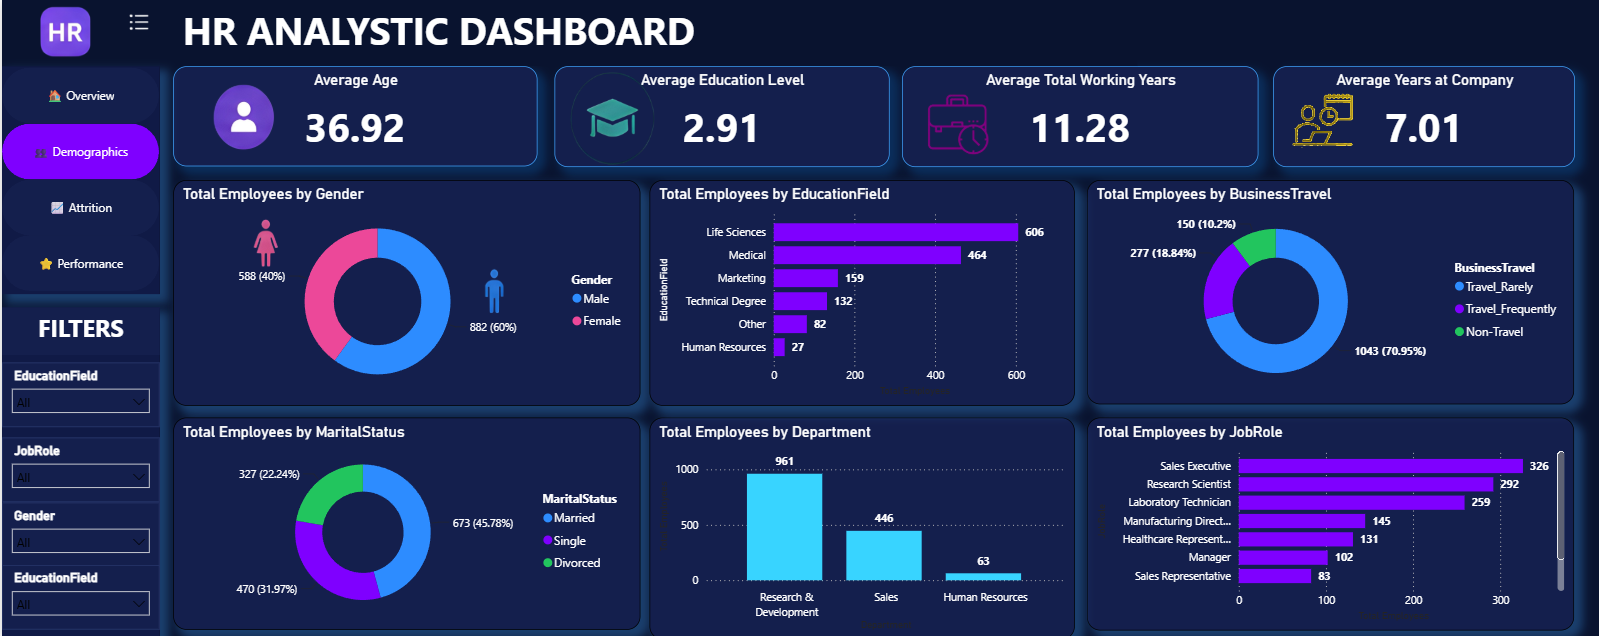

What the dashboard file says about the page in this screenshot:
{"tool":"powerbi","page":{"name":"👥 Demographics","canvas":[1800,720],"ordinal":1},"visuals":[{"type":"cardVisual","title":"Average Age","fields":{"Data":["HR_Cleaned.Average Age"]},"box":[193,75,410,113],"z":0},{"type":"shape","box":[0,74.1,177.6,256.9],"z":1000},{"type":"shape","box":[0,346.6,177.6,374.1],"z":2000},{"type":"cardVisual","title":"Average Education Level","fields":{"Data":["HR_Cleaned.Average Education Level"]},"box":[622.7,74.7,377.3,113.3],"z":3000},{"type":"cardVisual","title":"Average Total Working Years","fields":{"Data":["HR_Cleaned.Average Total Working Years"]},"box":[1014.7,74.7,401.3,113.3],"z":4000},{"type":"cardVisual","title":"Average Years at Company","fields":{"Data":["HR_Cleaned.Average Years at Company"]},"box":[1432,74.7,340,113.3],"z":5000},{"type":"textbox","box":[198.3,0,1081,74.1],"z":6000},{"type":"donutChart","fields":{"Category":["HR_Cleaned.Gender"],"Y":["HR_Cleaned.Total Employees"]},"box":[193,203,526,254],"z":7000},{"type":"clusteredBarChart","fields":{"Y":["HR_Cleaned.Total Employees"],"Category":["HR_Cleaned.JobRole"]},"box":[1223,471,549,240],"z":8000},{"type":"donutChart","fields":{"Y":["HR_Cleaned.Total Employees"],"Category":["HR_Cleaned.BusinessTravel"]},"box":[1223,203,549,253],"z":9000},{"type":"donutChart","fields":{"Y":["HR_Cleaned.Total Employees"],"Category":["HR_Cleaned.MaritalStatus"]},"box":[193,471,526,239],"z":10000},{"type":"clusteredColumnChart","fields":{"Y":["HR_Cleaned.Total Employees"],"Category":["HR_Cleaned.Department"]},"box":[730,471,479,250],"z":11000},{"type":"clusteredBarChart","fields":{"Category":["HR_Cleaned.EducationField"],"Y":["HR_Cleaned.Total Employees"]},"box":[730,203,479,254],"z":12000},{"type":"slicer","fields":{"Values":["HR_Cleaned.EducationField"]},"box":[0,408.1,177.4,72.6],"z":13000},{"type":"slicer","fields":{"Values":["HR_Cleaned.JobRole"]},"box":[0,493.5,177.4,72.6],"z":14000},{"type":"slicer","fields":{"Values":["HR_Cleaned.Gender"]},"box":[0,566.1,177.4,72.6],"z":15000},{"type":"slicer","fields":{"Values":["HR_Cleaned.EducationField"]},"box":[0,637.1,177.4,72.6],"z":16000},{"type":"textbox","box":[0,346.8,177.4,53.2],"z":17000},{"type":"image","box":[177,75.7,193.2,127],"z":18000},{"type":"image","box":[591.9,47.3,193.2,167.6],"z":19000},{"type":"image","box":[0,0,193.2,74.3],"z":20000},{"type":"image","box":[500,285.1,112.2,74.3],"z":21000},{"type":"image","box":[202.7,232.4,193.2,74.3],"z":22000},{"type":"image","box":[1014.8,103.7,124.1,72.2],"z":23000},{"type":"image","box":[1416.7,94.4,142.6,81.5],"z":24000},{"type":"pageNavigator","box":[0,76.2,177.5,252.5],"z":25000}]}

Visuals, with their boxes on the page's 1800x720 design canvas (x1, y1, x2, y2). These are canvas units, not pixel positions in the 1599x636 screenshot, which may show the page scaled, cropped or inside an application window:
"Average Age" cardVisual: x1=193, y1=75, x2=603, y2=188
shape: x1=0, y1=74, x2=178, y2=331
shape: x1=0, y1=347, x2=178, y2=721
"Average Education Level" cardVisual: x1=623, y1=75, x2=1000, y2=188
"Average Total Working Years" cardVisual: x1=1015, y1=75, x2=1416, y2=188
"Average Years at Company" cardVisual: x1=1432, y1=75, x2=1772, y2=188
textbox: x1=198, y1=0, x2=1279, y2=74
donutChart - HR_Cleaned.Gender x HR_Cleaned.Total Employees: x1=193, y1=203, x2=719, y2=457
clusteredBarChart - HR_Cleaned.Total Employees x HR_Cleaned.JobRole: x1=1223, y1=471, x2=1772, y2=711
donutChart - HR_Cleaned.Total Employees x HR_Cleaned.BusinessTravel: x1=1223, y1=203, x2=1772, y2=456
donutChart - HR_Cleaned.Total Employees x HR_Cleaned.MaritalStatus: x1=193, y1=471, x2=719, y2=710
clusteredColumnChart - HR_Cleaned.Total Employees x HR_Cleaned.Department: x1=730, y1=471, x2=1209, y2=721
clusteredBarChart - HR_Cleaned.EducationField x HR_Cleaned.Total Employees: x1=730, y1=203, x2=1209, y2=457
slicer - HR_Cleaned.EducationField: x1=0, y1=408, x2=177, y2=481
slicer - HR_Cleaned.JobRole: x1=0, y1=494, x2=177, y2=566
slicer - HR_Cleaned.Gender: x1=0, y1=566, x2=177, y2=639
slicer - HR_Cleaned.EducationField: x1=0, y1=637, x2=177, y2=710
textbox: x1=0, y1=347, x2=177, y2=400
image: x1=177, y1=76, x2=370, y2=203
image: x1=592, y1=47, x2=785, y2=215
image: x1=0, y1=0, x2=193, y2=74
image: x1=500, y1=285, x2=612, y2=359
image: x1=203, y1=232, x2=396, y2=307
image: x1=1015, y1=104, x2=1139, y2=176
image: x1=1417, y1=94, x2=1559, y2=176
pageNavigator: x1=0, y1=76, x2=178, y2=329
